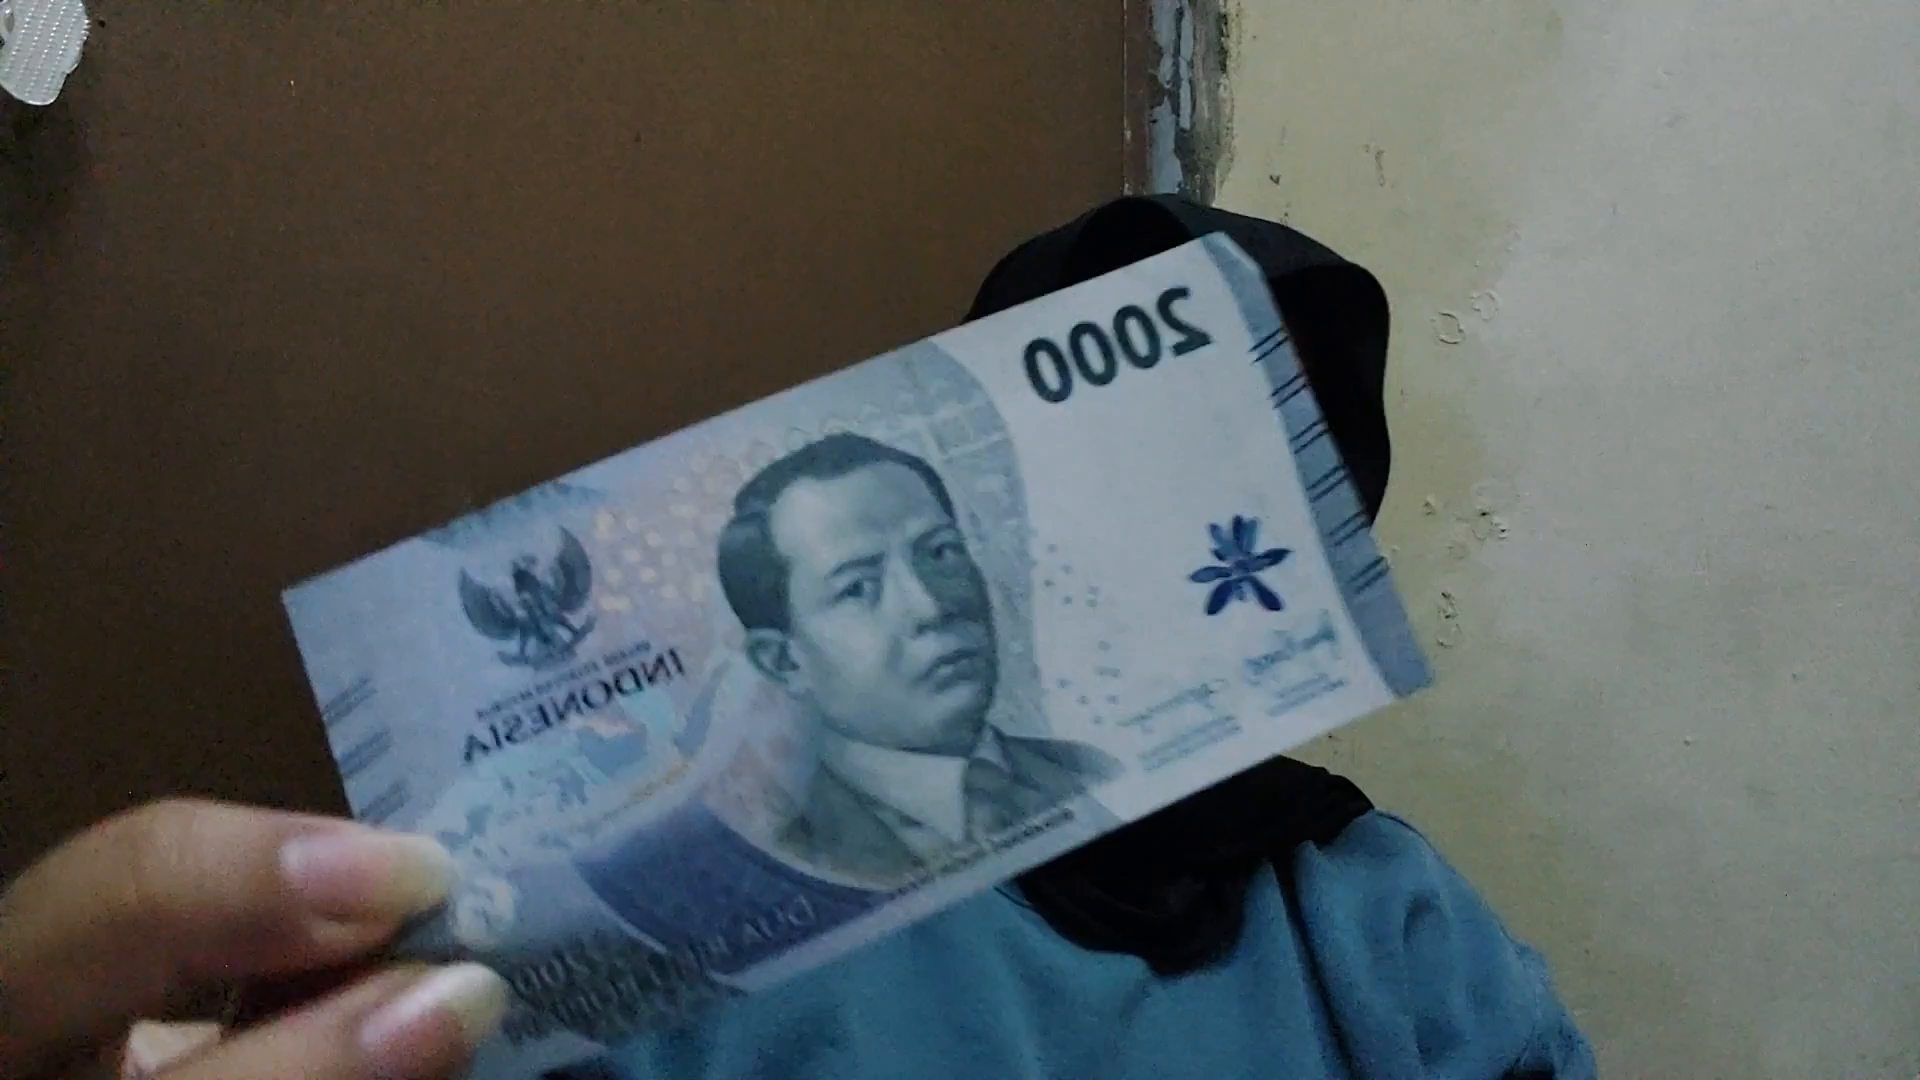2k: (303, 587, 1327, 1080)
